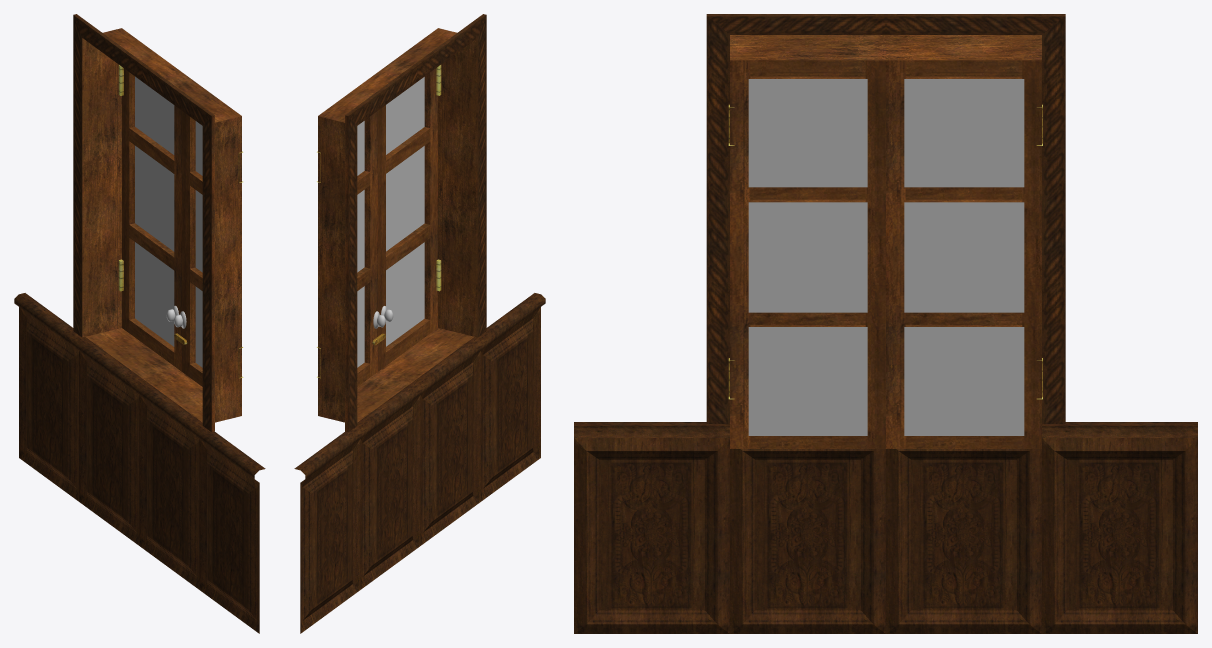
Rendered from wood_panneling_window.DAE.
3 views of the same model, side by side, from view 1: azimuth 30°, elevation 25°; view 2: azimuth 150°, elevation 25°; view 3: azimuth 270°, elevation 25° (orthographic). The views are drawn at different scales.
Visible parts, largest first — view 1: Object007, Box008, Object008; view 2: Object007, Box008, Object008; view 3: Box008, Object008, Object007.
Boxes of the visible parts, x1,y1,x2,y2 form: Object007: (73, 14, 243, 432); Box008: (14, 293, 265, 633); Object008: (135, 76, 202, 367); Object007: (317, 14, 486, 432); Box008: (294, 293, 545, 633); Object008: (357, 77, 424, 367); Box008: (574, 422, 1197, 633); Object008: (748, 79, 1024, 435); Object007: (706, 14, 1065, 448).
Size of the model in its own units: 0.5112 by 4.4 by 4.
